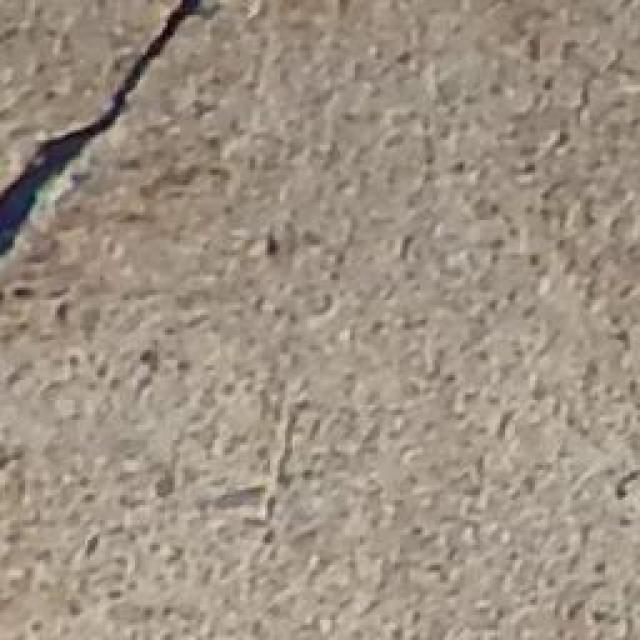concrete-crack: (0, 0, 214, 274)
